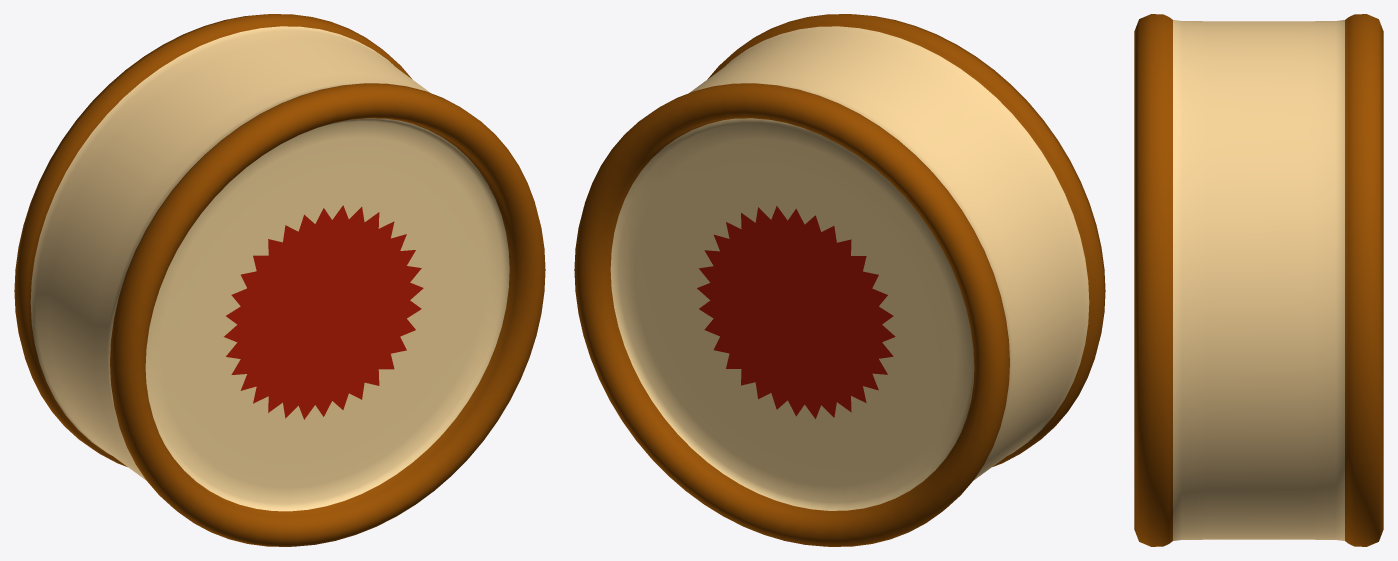
Rendered from Drum.fbx.
3 views of the same model, side by side, from view 1: azimuth 30°, elevation 25°; view 2: azimuth 150°, elevation 25°; view 3: azimuth 270°, elevation 25° (orthographic). The views are drawn at different scales.
Parts seen in each view (by area): view 1: Cylinder; view 2: Cylinder; view 3: Cylinder.
Boxes of the visible parts, bbox=[...] form: Cylinder: bbox=[14, 14, 545, 546]; Cylinder: bbox=[574, 14, 1105, 546]; Cylinder: bbox=[1134, 14, 1383, 546].
Bounding box in the file's own units: 15.02 × 15.02 × 7.02.
